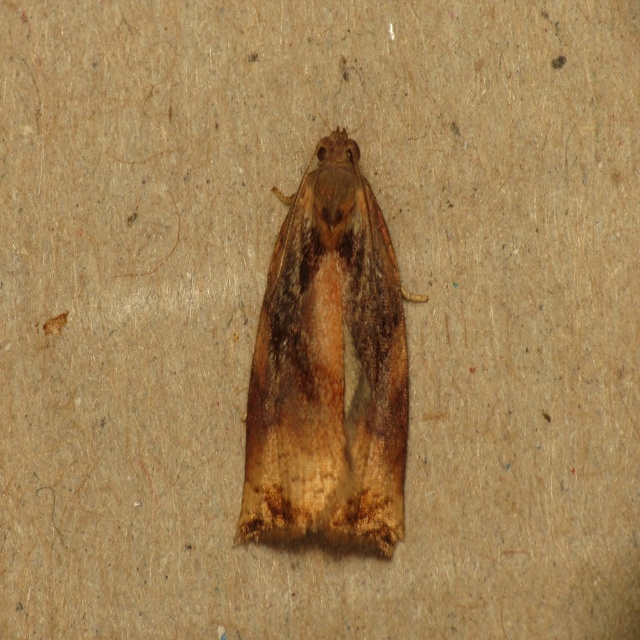Moths and butterflies: (232, 113, 427, 564)
